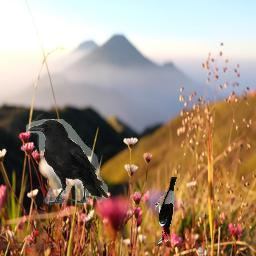Crow: (26, 120, 108, 205)
Woodpecker: (155, 178, 177, 245)
